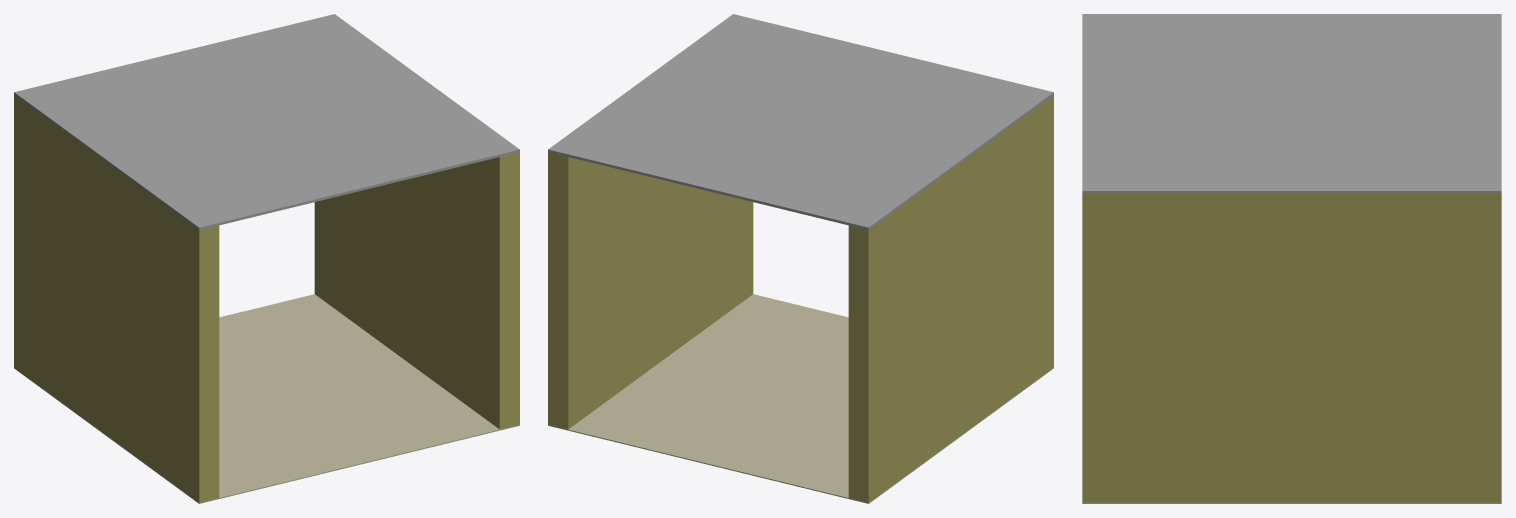
Rendered from tile1.gltf.
3 views of the same model, side by side, from view 1: azimuth 30°, elevation 25°; view 2: azimuth 150°, elevation 25°; view 3: azimuth 270°, elevation 25° (orthographic). The views are drawn at different scales.
Visible parts, largest first — view 1: cube (×4); view 2: cube (×4); view 3: cube (×3).
Part boxes in pixels (<box>): cube (×4): <box>14,14,519,503</box>; cube (×4): <box>548,14,1053,503</box>; cube (×3): <box>1082,14,1501,503</box>.
Bounding box in the file's own units: 1 × 0.8234 × 1.
1 material, 1 textured.
